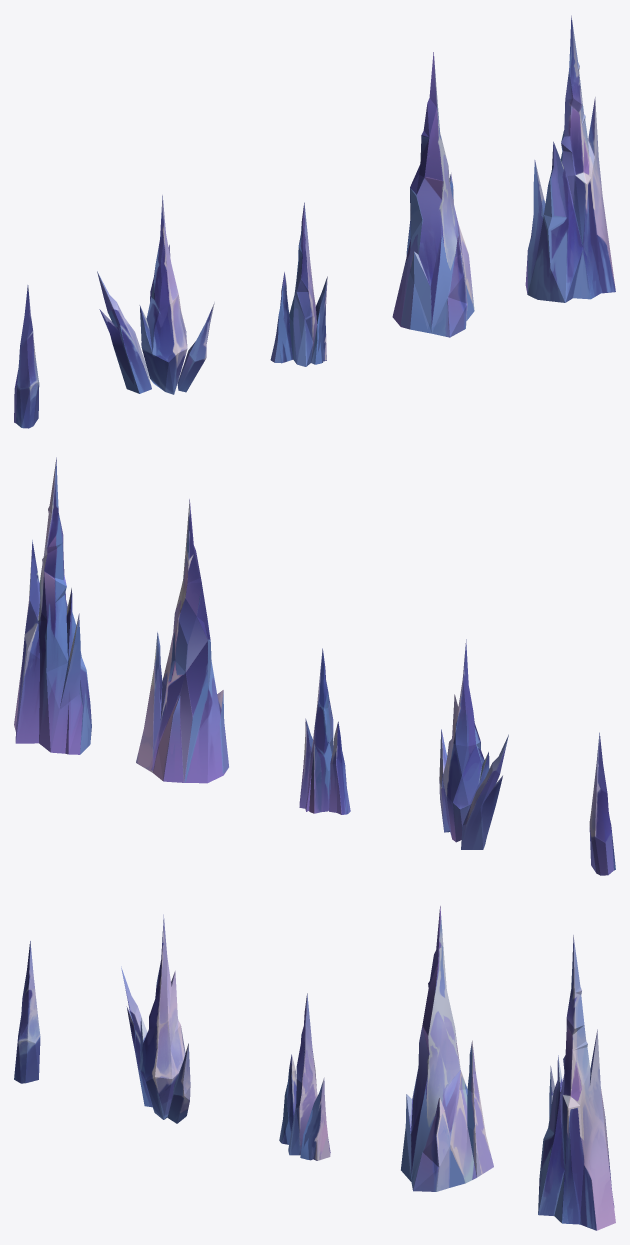
File: Ice 2.glb
3 renders of one model, top to bottom at view 1: azimuth 30°, elevation 25°; view 2: azimuth 150°, elevation 25°; view 3: azimuth 330°, elevation 25°, orthographic.
Parts seen in each view (by area): view 1: E, D, B, C, A; view 2: D, E, B, C, A; view 3: D, E, B, C, A.
Part boxes in pixels (x1=…): E: x1=525, y1=15, x2=615, y2=302; D: x1=392, y1=52, x2=474, y2=337; B: x1=97, y1=195, x2=214, y2=394; C: x1=270, y1=202, x2=327, y2=366; A: x1=14, y1=285, x2=39, y2=428; D: x1=136, y1=499, x2=228, y2=783; E: x1=14, y1=457, x2=91, y2=754; B: x1=439, y1=639, x2=508, y2=849; C: x1=299, y1=648, x2=350, y2=814; A: x1=589, y1=732, x2=615, y2=875; D: x1=401, y1=906, x2=493, y2=1191; E: x1=538, y1=935, x2=615, y2=1230; B: x1=121, y1=914, x2=190, y2=1123; C: x1=279, y1=993, x2=330, y2=1160; A: x1=14, y1=941, x2=40, y2=1083.
Size of the model in its own units: 1.32 by 0.5961 by 0.1554.
1 material, 1 textured.
